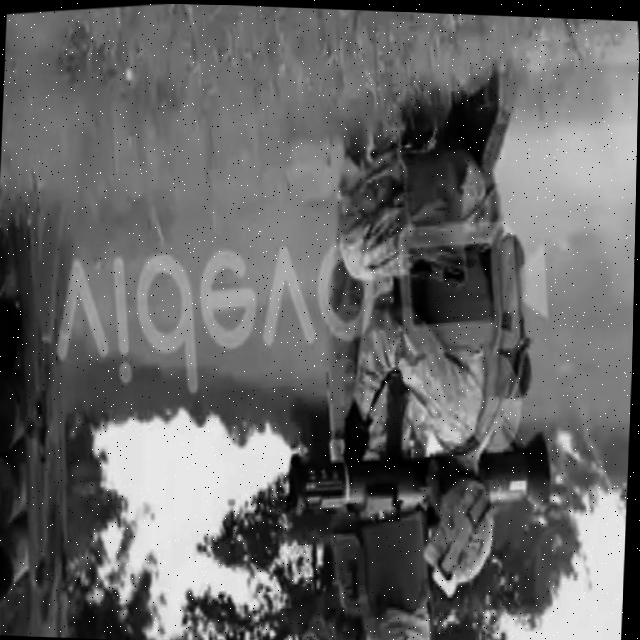rocket: (281, 429, 557, 534)
